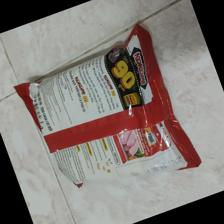Kokomi: (12, 24, 204, 187)
